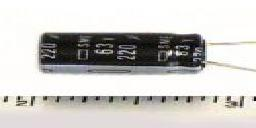Electrolytic-Capacitor: (36, 28, 256, 84)
